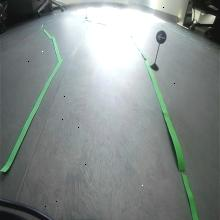left: (155, 29, 167, 45)
